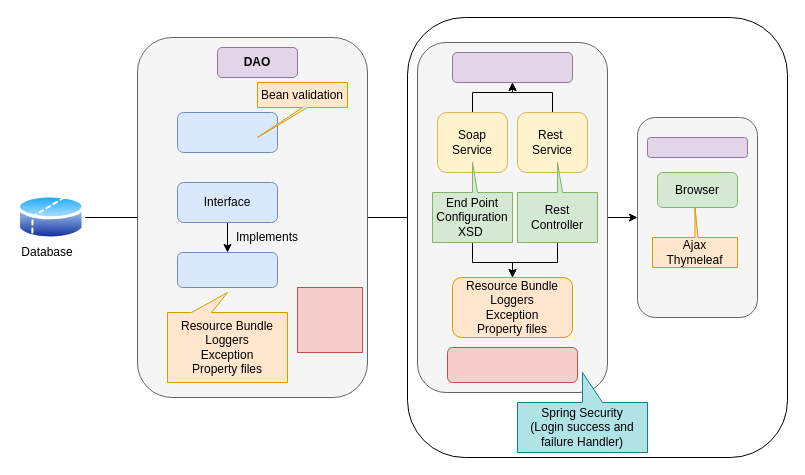
Image size: 805x475. Some labels were removed from this diagram. Each missing label, with the centre of its shape:
"CLENTS" belongs at pixel 697 147.
"End Point Testing" belongs at pixel 512 364.
"Entity" belongs at pixel 227 132.
"Services" belongs at pixel 227 270.
"Testing" belongs at pixel 329 319.
"WebService" belongs at pixel 512 67.
